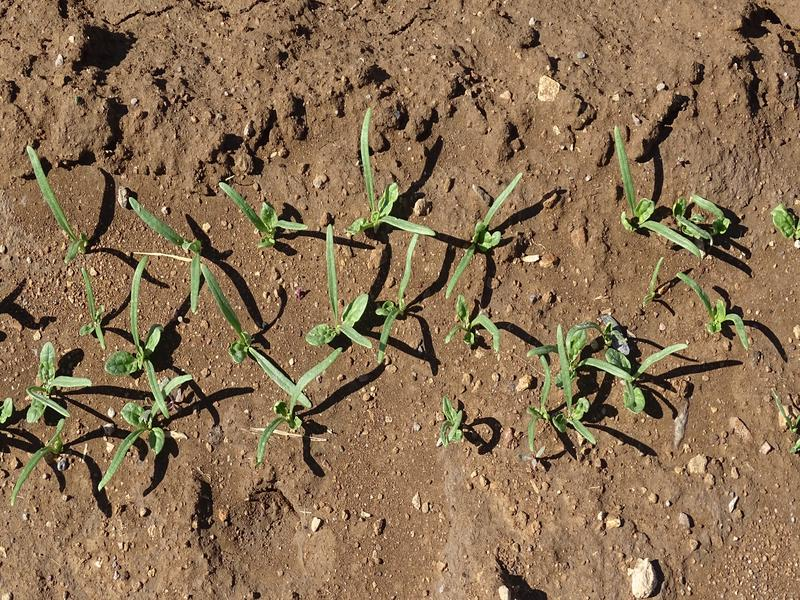Espinaca: (7, 135, 512, 466), (531, 307, 686, 472), (603, 128, 734, 256), (685, 268, 764, 353)
